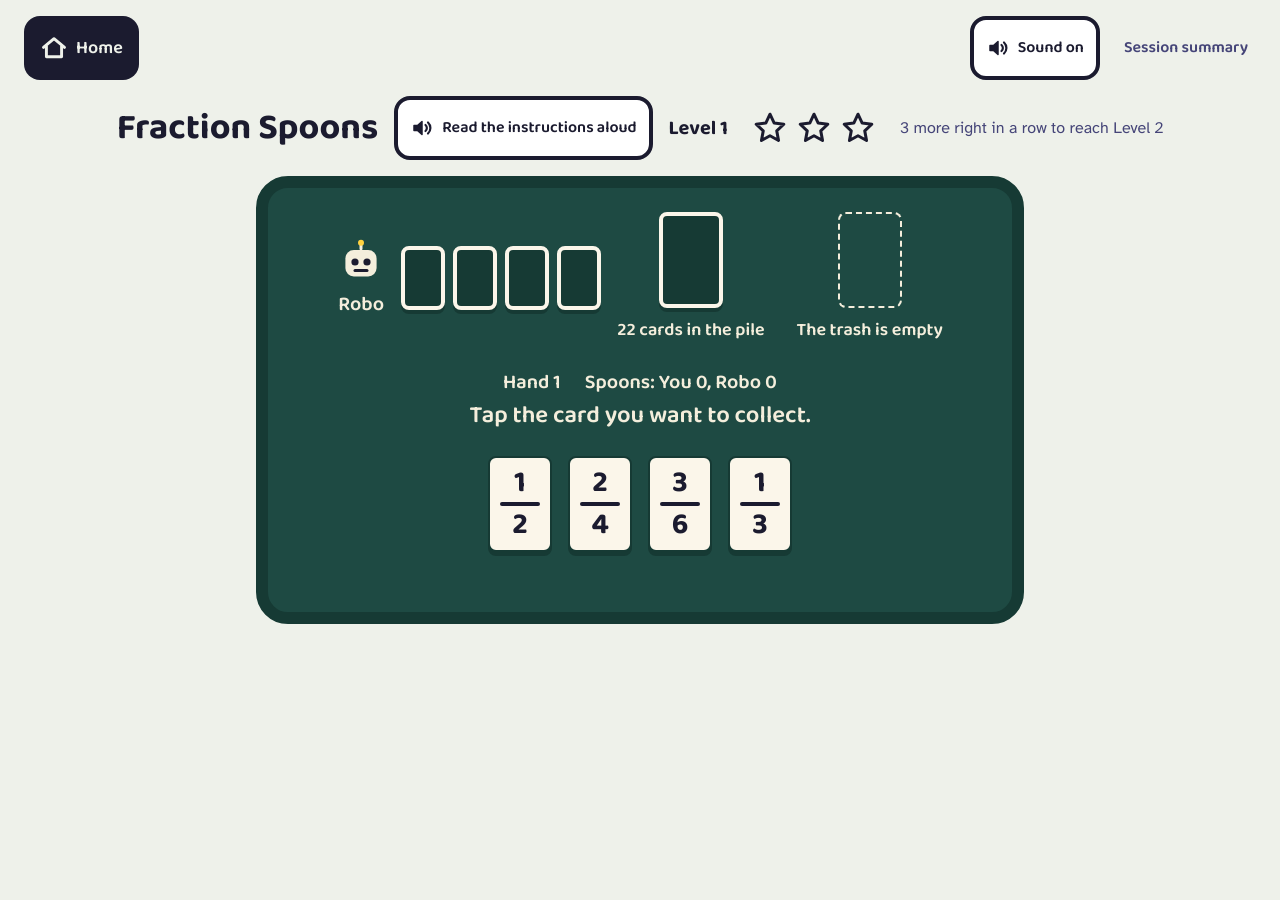
Test: a move that fails to send says so and keeps the hand
Click the button named "1/2". click: (520, 504)
box: [488, 456, 552, 552]
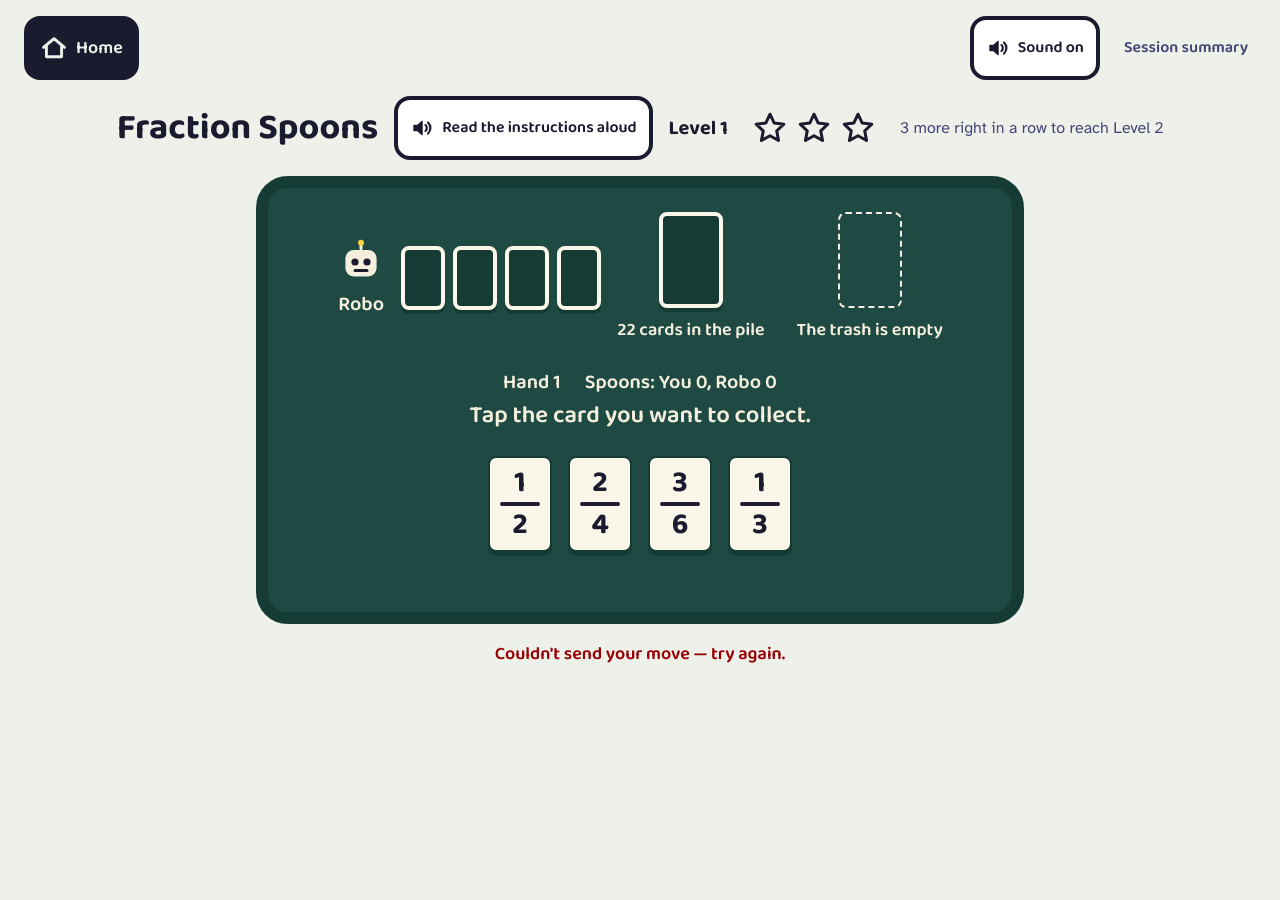
Expected: the text "Tap the card you want to collect." is shown, [470, 400, 810, 432]
Result: the text "Couldn't send your move — try again." is shown at [495, 640, 785, 668]
